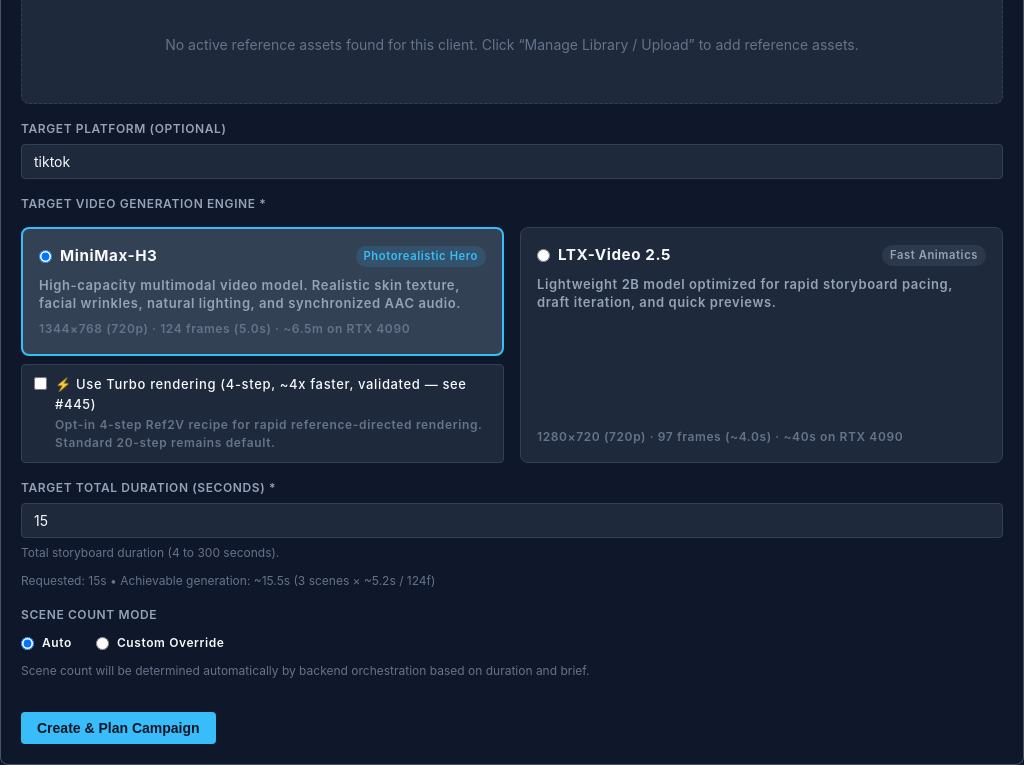
Test case: CampaignCreationForm Component › Reference Library and Campaign Selection Integration › refuses submission when client references load empty but candidateReferenceAssetIds are present
This screenshot has width=1024, height=765.
(page scrolled)
What coordinates should you click on to do the following:
click the button with test id "submit-campaign-button"
I would click on:
 (118, 728)
Its box is [21,712,216,744].
(page scrolled)
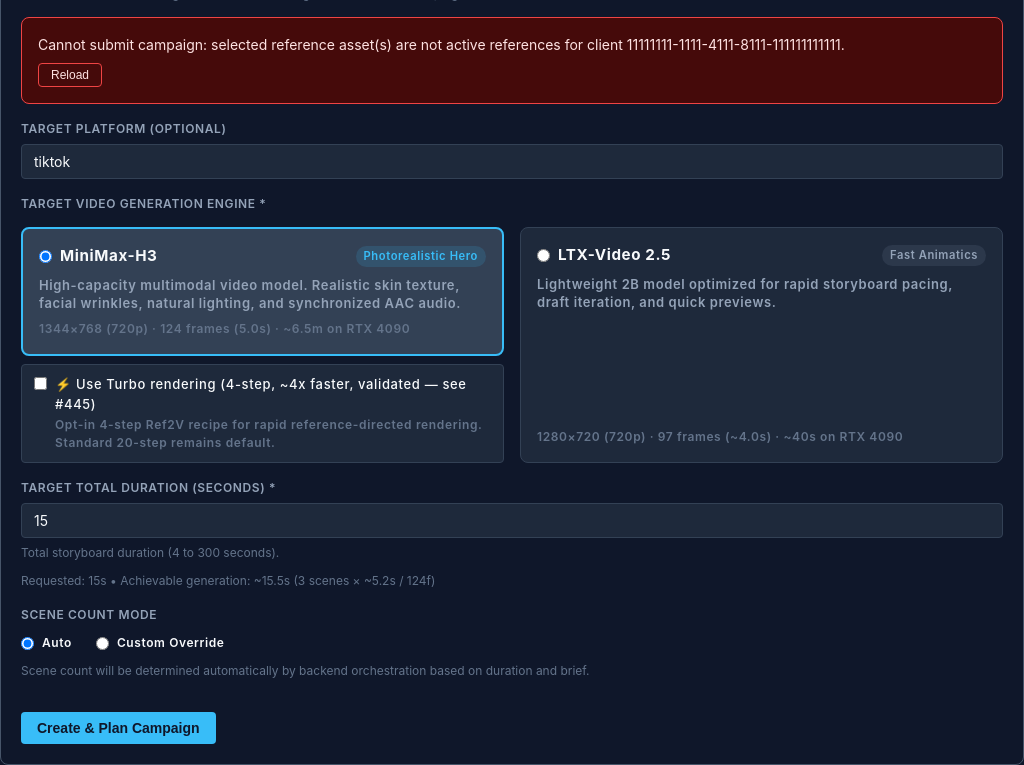
Expected: the element with test id "reference-gallery-error" is shown, [21,17,1003,104]
Expected: the element with test id "reference-gallery-error" shows "selected reference asset(s) are not active references", [38,36,845,53]
